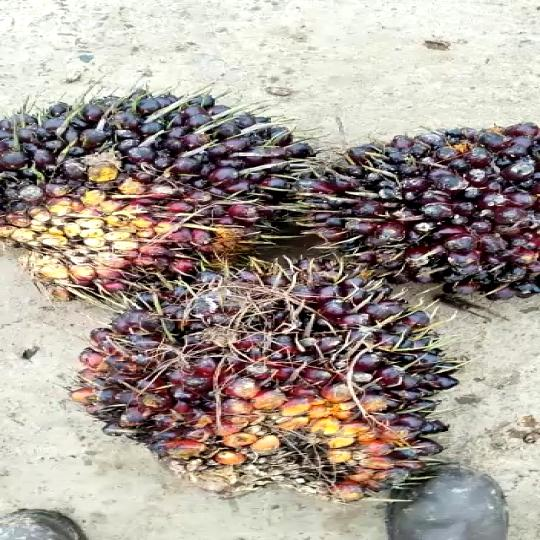kurang masak: (87, 262, 452, 526), (0, 82, 303, 306), (297, 103, 540, 309)
